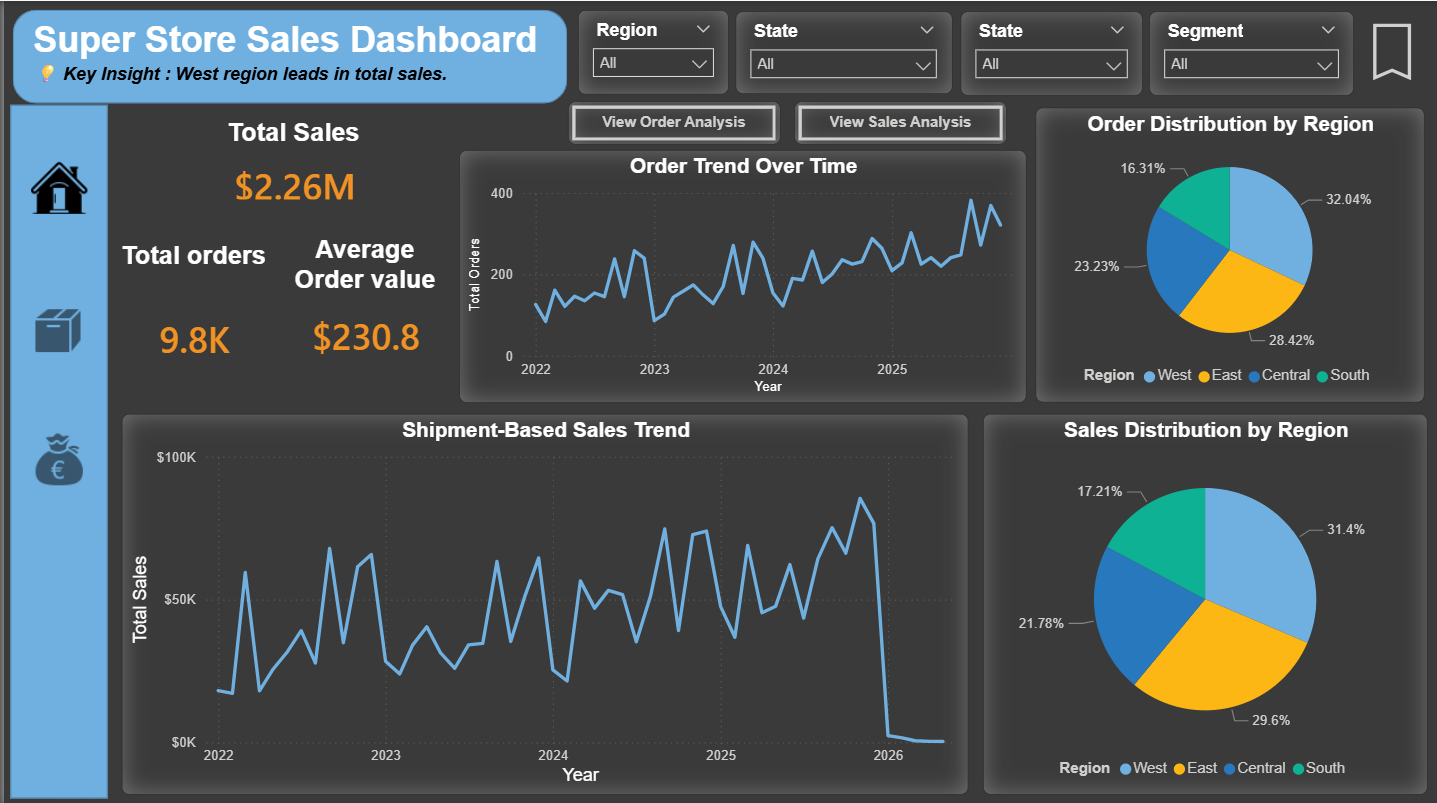

Layout of this report page (visuals, bound fields, positions):
{"tool":"powerbi","page":{"name":"Home","canvas":[1280,720],"ordinal":0},"visuals":[{"type":"slicer","fields":{"Values":["train (2).State"]},"box":[853.7,8.4,163.3,75.6],"z":0},{"type":"shape","box":[5.6,92.7,87.1,619.7],"z":1000},{"type":"slicer","fields":{"Values":["train (2).Segment"]},"box":[1022.9,8.4,183.1,75.9],"z":2000},{"type":"cardVisual","title":"Total orders","fields":{"Data":["CountNonNull(train (2).Order ID)"]},"box":[93,214,153.5,145.3],"z":3000},{"type":"actionButton","box":[1208.1,8.1,64,75.6],"z":4000},{"type":"shape","box":[8.1,8.1,495.4,83.7],"z":5000},{"type":"textbox","box":[20.9,12.8,468.6,70.9],"z":6000},{"type":"actionButton","title":"Home","box":[8.9,94.9,80.4,139.6],"z":7000},{"type":"slicer","fields":{"Values":["train (2).Region"]},"box":[512.5,7.8,135.1,75.9],"z":8000},{"type":"actionButton","box":[7.8,224.4,80.4,139.6],"z":9000},{"type":"actionButton","box":[8.9,339.5,80.4,139.6],"z":10000},{"type":"pieChart","title":"Order Distribution by Region","fields":{"Category":["train (2).Region"],"Y":["CountNonNull(train (2).Order ID)"]},"box":[920.9,95.3,347.7,264],"z":11000},{"type":"lineChart","title":"Shipment-Based Sales Trend","fields":{"Y":["Sum(train (2).Sales)"],"Category":["train (2).Ship Date.Variation.Date Hierarchy.Year","train (2).Ship Date.Variation.Date Hierarchy.Month"]},"box":[105,368.5,757.1,340.6],"z":12000},{"type":"lineChart","title":"Order Trend Over Time","fields":{"Y":["CountNonNull(train (2).Row ID)"],"Category":["train (2).Order Date.Variation.Date Hierarchy.Year","train (2).Order Date.Variation.Date Hierarchy.Month"]},"box":[407,132.6,507,226.7],"z":13000},{"type":"cardVisual","title":"Total Sales","fields":{"Data":["Sum(train (2).Sales)"]},"box":[168.6,103.5,180.2,91.9],"z":14000},{"type":"pieChart","title":"Sales Distribution by Region","fields":{"Category":["train (2).Region"],"Y":["Sum(train (2).Sales)"]},"box":[874.4,368.6,397.7,340.7],"z":15000},{"type":"slicer","fields":{"Values":["train (2).State"]},"box":[653.5,9.3,194.2,74.4],"z":16000},{"type":"cardVisual","title":"Average Order value","fields":{"Data":["Avg(train (2).Sales)"]},"box":[241.9,209.3,160.5,125.6],"z":17000},{"type":"actionButton","box":[503.5,89.5,190,39.5],"z":18000},{"type":"actionButton","box":[705.8,89.5,190.7,39.5],"z":19000}]}

Visuals, with their boxes in screenshot pixels (x1, y1, x2, y2), scaled from the page's 1280x720 canvas onto the 1437x803 screenshot:
slicer - train (2).State: pyautogui.locateOnScreen(958, 9, 1142, 94)
shape: pyautogui.locateOnScreen(6, 103, 104, 795)
slicer - train (2).Segment: pyautogui.locateOnScreen(1148, 9, 1354, 94)
"Total orders" cardVisual: pyautogui.locateOnScreen(104, 239, 277, 401)
actionButton: pyautogui.locateOnScreen(1356, 9, 1428, 93)
shape: pyautogui.locateOnScreen(9, 9, 565, 102)
textbox: pyautogui.locateOnScreen(23, 14, 550, 93)
"Home" actionButton: pyautogui.locateOnScreen(10, 106, 100, 262)
slicer - train (2).Region: pyautogui.locateOnScreen(575, 9, 727, 93)
actionButton: pyautogui.locateOnScreen(9, 250, 99, 406)
actionButton: pyautogui.locateOnScreen(10, 379, 100, 534)
"Order Distribution by Region" pieChart: pyautogui.locateOnScreen(1034, 106, 1424, 401)
"Shipment-Based Sales Trend" lineChart: pyautogui.locateOnScreen(118, 411, 968, 791)
"Order Trend Over Time" lineChart: pyautogui.locateOnScreen(457, 148, 1026, 401)
"Total Sales" cardVisual: pyautogui.locateOnScreen(189, 115, 392, 218)
"Sales Distribution by Region" pieChart: pyautogui.locateOnScreen(982, 411, 1428, 791)
slicer - train (2).State: pyautogui.locateOnScreen(734, 10, 952, 93)
"Average Order value" cardVisual: pyautogui.locateOnScreen(272, 233, 452, 374)
actionButton: pyautogui.locateOnScreen(565, 100, 779, 144)
actionButton: pyautogui.locateOnScreen(792, 100, 1006, 144)
